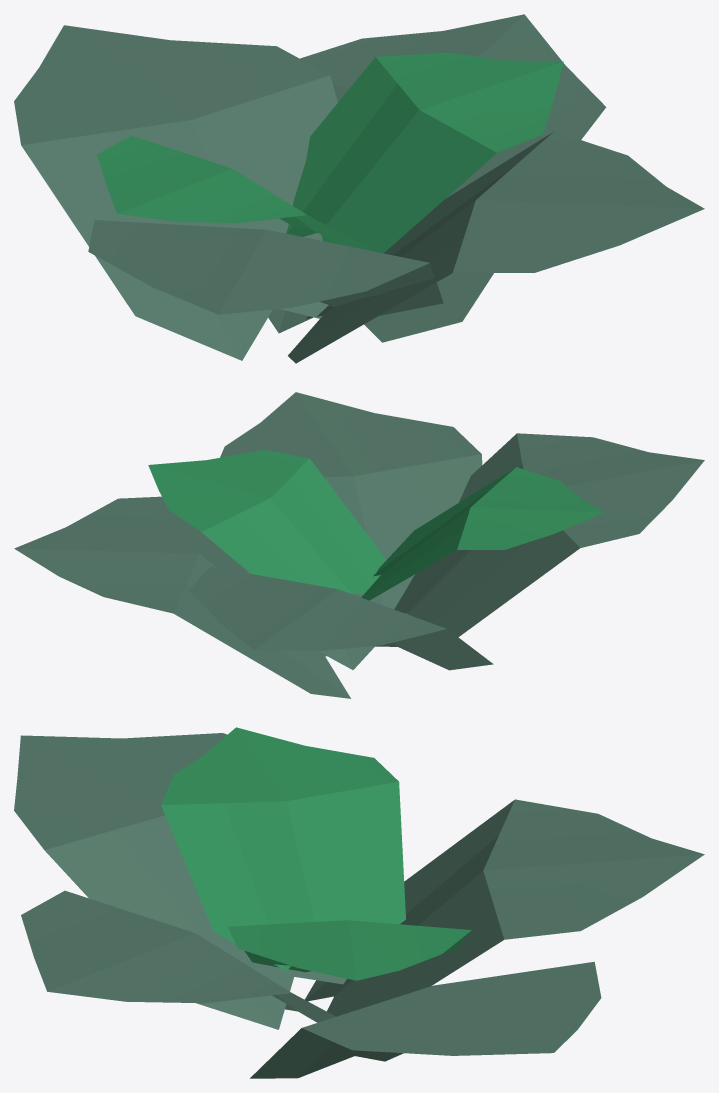
Rendered from Plant_002.fbx.
The picture shows the model from 3 angles, top to bottom: view 1: azimuth 30°, elevation 25°; view 2: azimuth 150°, elevation 25°; view 3: azimuth 270°, elevation 25°; orthographic projection. The views are drawn at different scales.
Parts seen in each view (by area): view 1: polySurface599, polySurface601, polySurface603, polySurface598, polySurface602, polySurface600; view 2: polySurface598, polySurface603, polySurface601, polySurface602, polySurface599, polySurface600; view 3: polySurface600, polySurface599, polySurface598, polySurface602, polySurface603, polySurface601.
Part boxes in pixels (x1,y1,x2,y2): polySurface599: (14, 25, 337, 360); polySurface601: (286, 52, 563, 253); polySurface603: (288, 131, 704, 363); polySurface598: (88, 220, 443, 315); polySurface602: (268, 14, 606, 342); polySurface600: (97, 135, 375, 251); polySurface598: (394, 433, 704, 649); polySurface603: (220, 392, 482, 669); polySurface601: (148, 450, 386, 593); polySurface602: (14, 496, 350, 698); polySurface599: (189, 566, 493, 670); polySurface600: (361, 467, 604, 600); polySurface600: (161, 727, 405, 970); polySurface599: (305, 799, 704, 1016); polySurface598: (14, 733, 346, 1029); polySurface602: (250, 961, 601, 1078); polySurface603: (21, 890, 335, 1022); polySurface601: (228, 920, 471, 980).
Size of the model in its own units: 1.11 by 0.4103 by 1.15.
